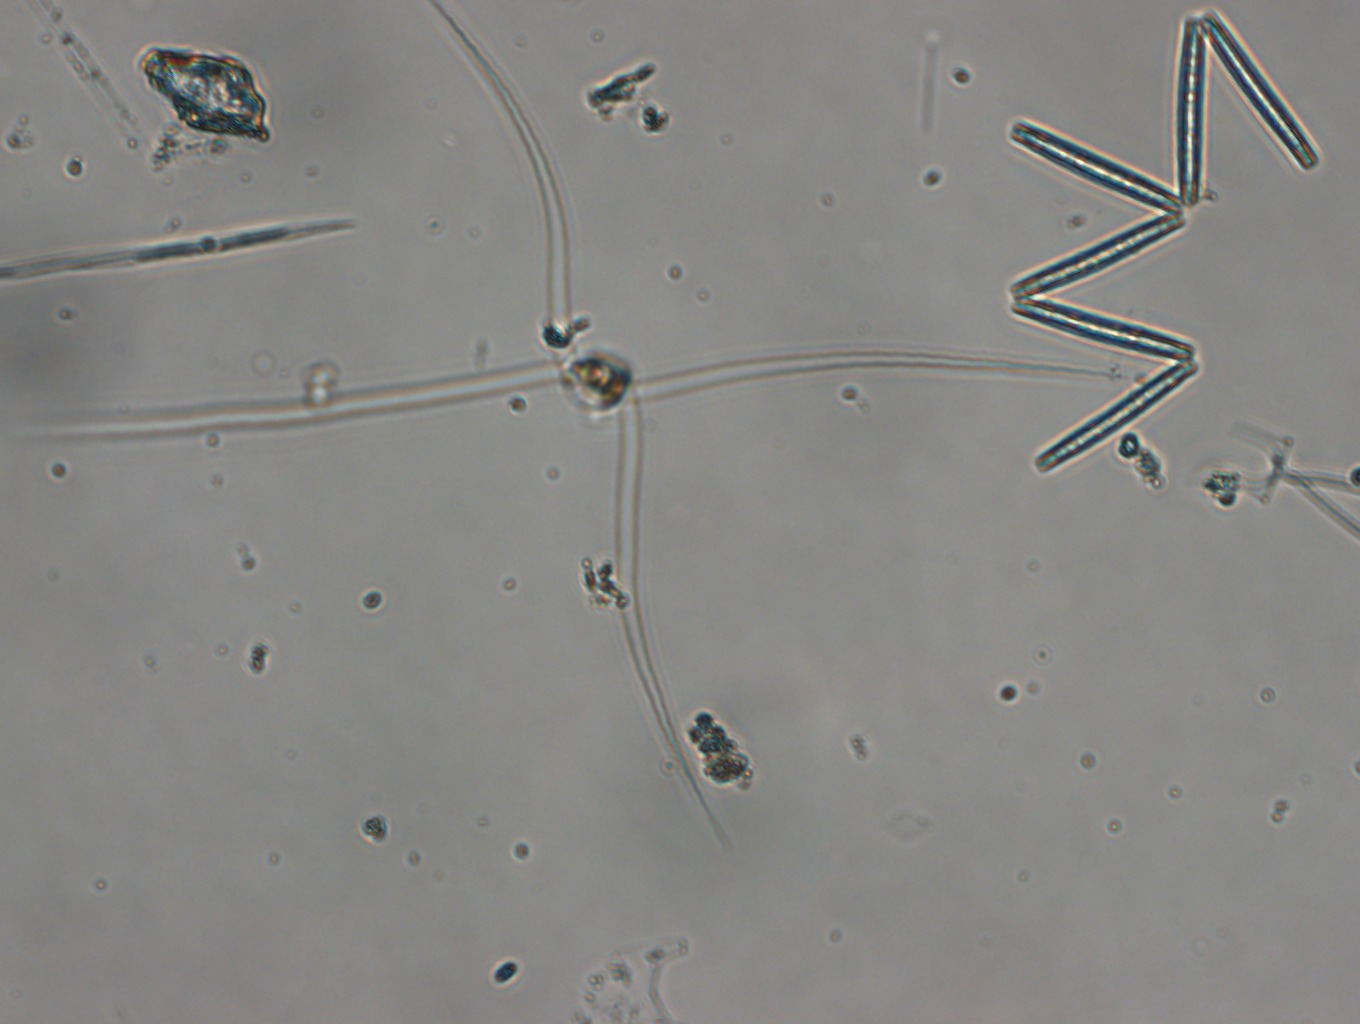thalassionema nitzschioides: (1004, 6, 1330, 477)
